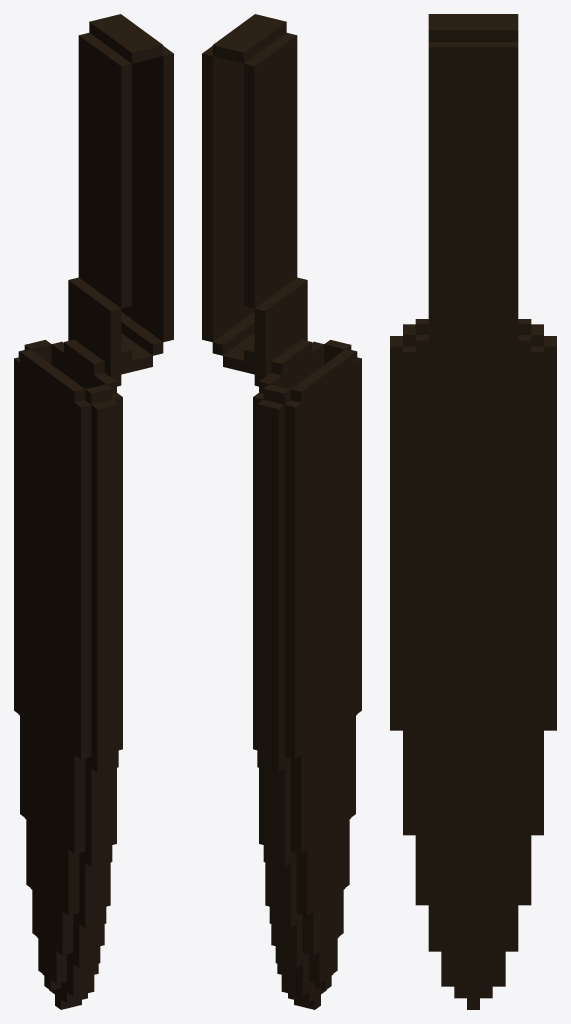
Rendered from Knife_Sheath_Leather.obj.
The picture shows the model from 3 angles, left to right: view 1: azimuth 30°, elevation 25°; view 2: azimuth 150°, elevation 25°; view 3: azimuth 270°, elevation 25°; orthographic projection. The views are drawn at different scales.
Bounding box in the file's own units: 1 × 8.7 × 1.3.
1 material, 1 textured.
